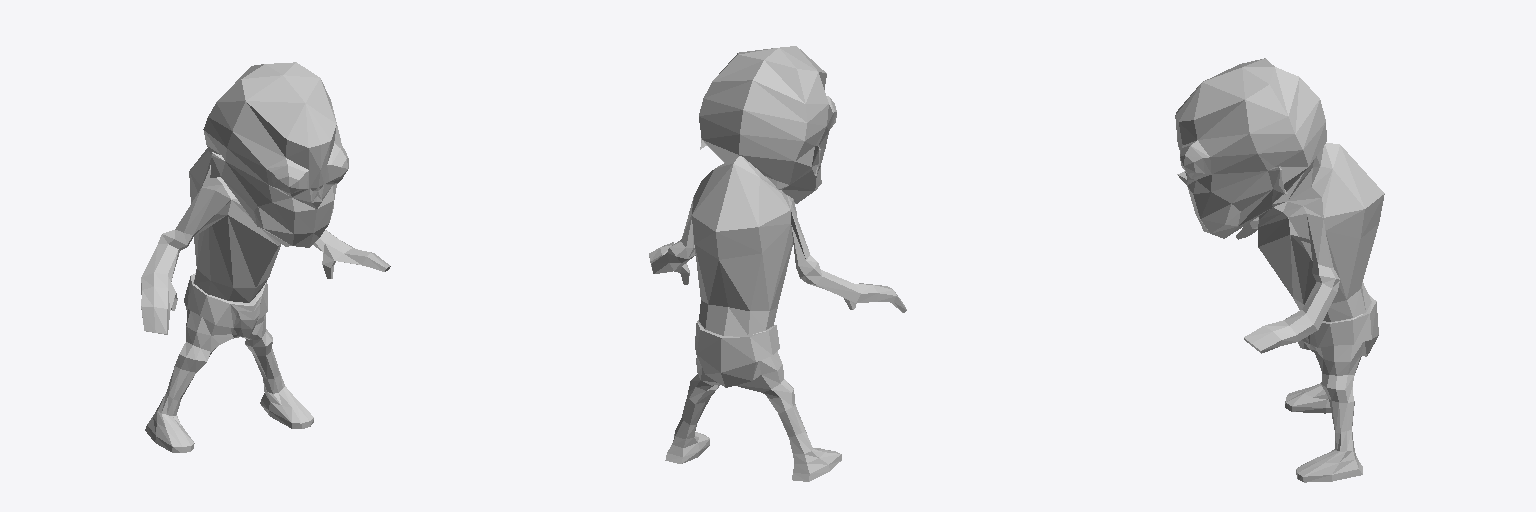
File: GuardianNormal_000057.obj
3 renders of one model, left to right at view 1: azimuth 30°, elevation 25°; view 2: azimuth 150°, elevation 25°; view 3: azimuth 270°, elevation 25°, orthographic.
Visible parts, largest first — view 1: untitled2:Mesh1.001; view 2: untitled2:Mesh1.001; view 3: untitled2:Mesh1.001.
Boxes of the visible parts, <box> form: untitled2:Mesh1.001: <box>141,62,390,452</box>; untitled2:Mesh1.001: <box>649,46,906,481</box>; untitled2:Mesh1.001: <box>1175,58,1384,482</box>.
Bounding box in the file's own units: 10.43 × 15.3 × 7.55.